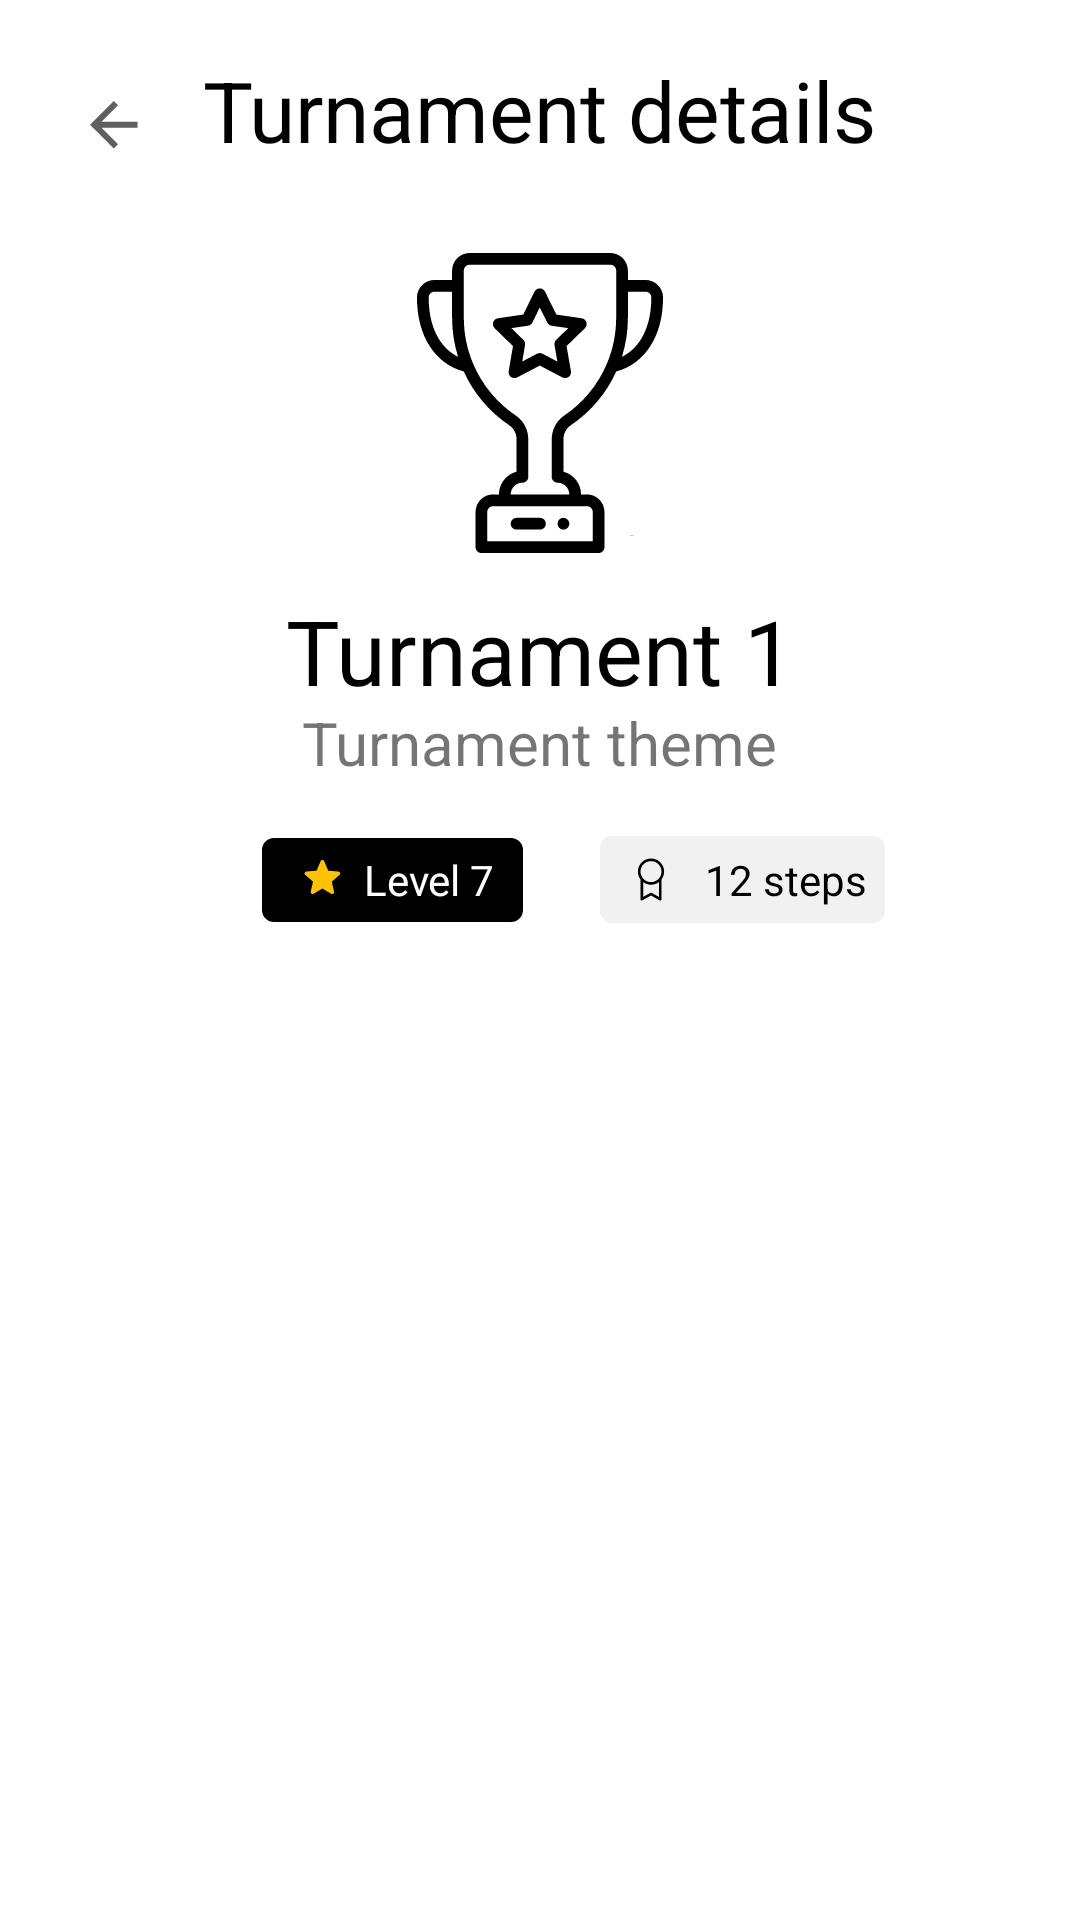

Where to tap for icons on this 1080x1920 app screen, as point (x, y):
Back arrow button: point (114, 125)
